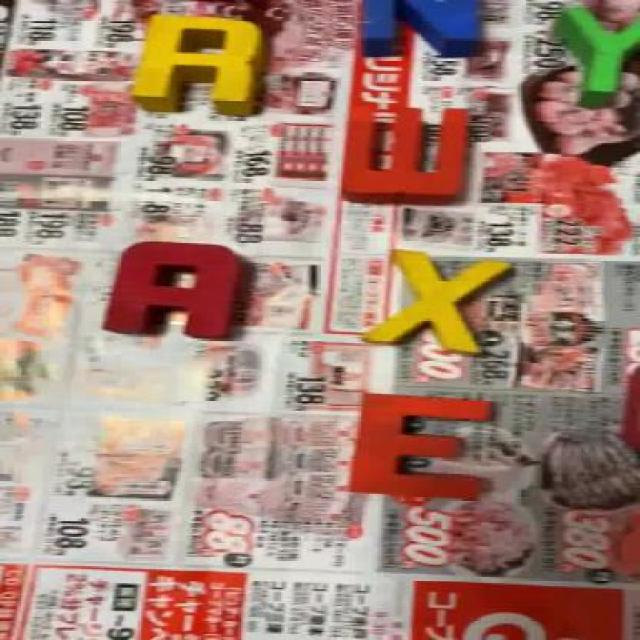A: (105, 241, 244, 336)
E: (353, 393, 498, 498)
R: (137, 14, 261, 118)
W: (344, 106, 468, 202)
X: (374, 250, 514, 352)
